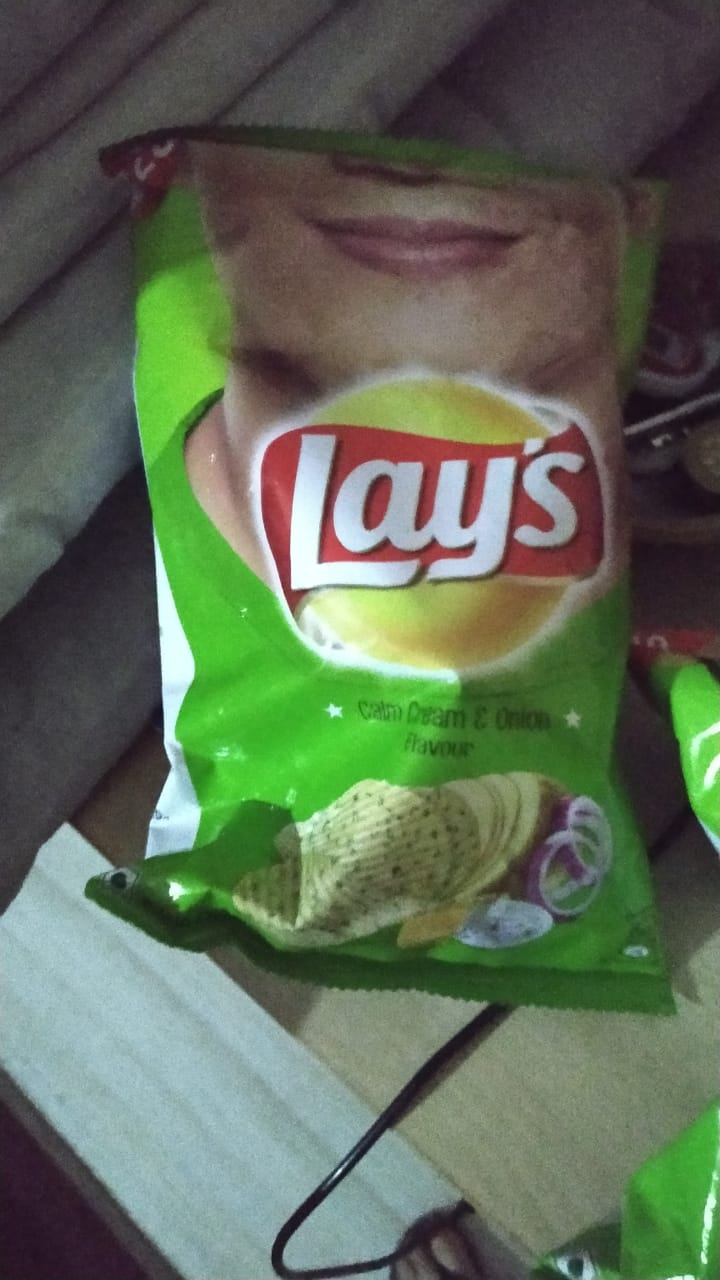lays chips: (86, 106, 690, 1039)
